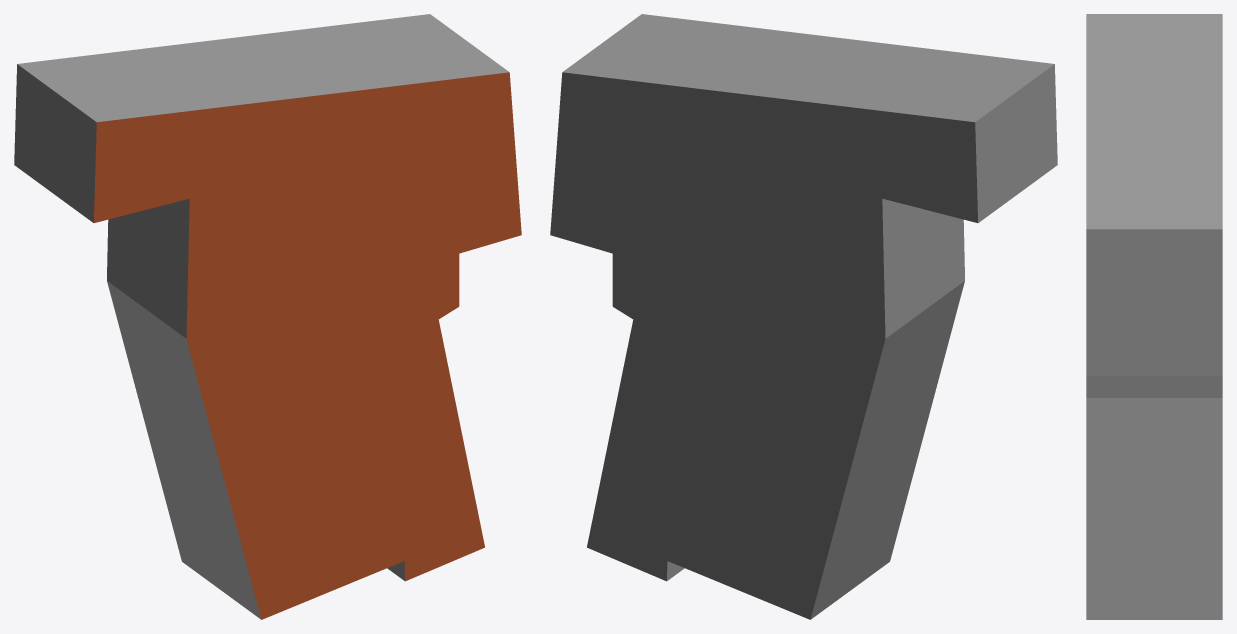
The model's file is construction_6948_assumed_A_Casa_h6m.obj.
3 renders of one model, left to right at view 1: azimuth 30°, elevation 25°; view 2: azimuth 150°, elevation 25°; view 3: azimuth 270°, elevation 25°, orthographic. The views are drawn at different scales.
Parts seen in each view (by area): view 1: construction_6948_assumed_A_Casa; view 2: construction_6948_assumed_A_Casa; view 3: construction_6948_assumed_A_Casa.
Boxes of the visible parts, x1,y1,x2,y2 form: construction_6948_assumed_A_Casa: (14, 14, 521, 619); construction_6948_assumed_A_Casa: (550, 14, 1057, 619); construction_6948_assumed_A_Casa: (1086, 14, 1222, 619).
Bounding box in the file's own units: 18.62 × 22.36 × 6.
